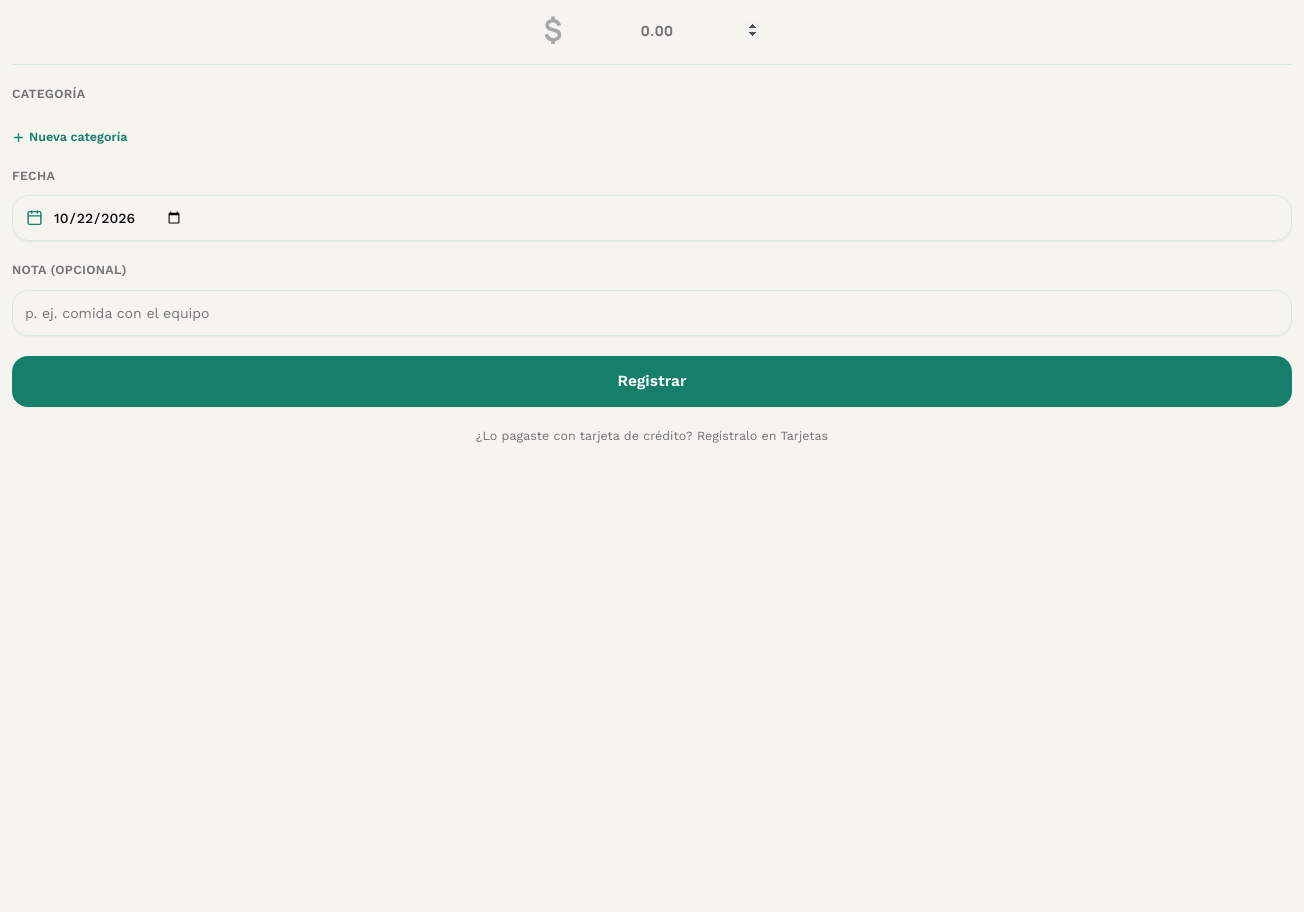
FormularioGasto — un gasto mayor al disponible pide confirmación › "Corregir el monto" quita el aviso y vuelve el botón normal, sin registrar
Step 1. Type "6000" into the number field named "¿Cuánto gastaste?" → (664, 30), box x1=568 y1=20 x2=760 y2=40
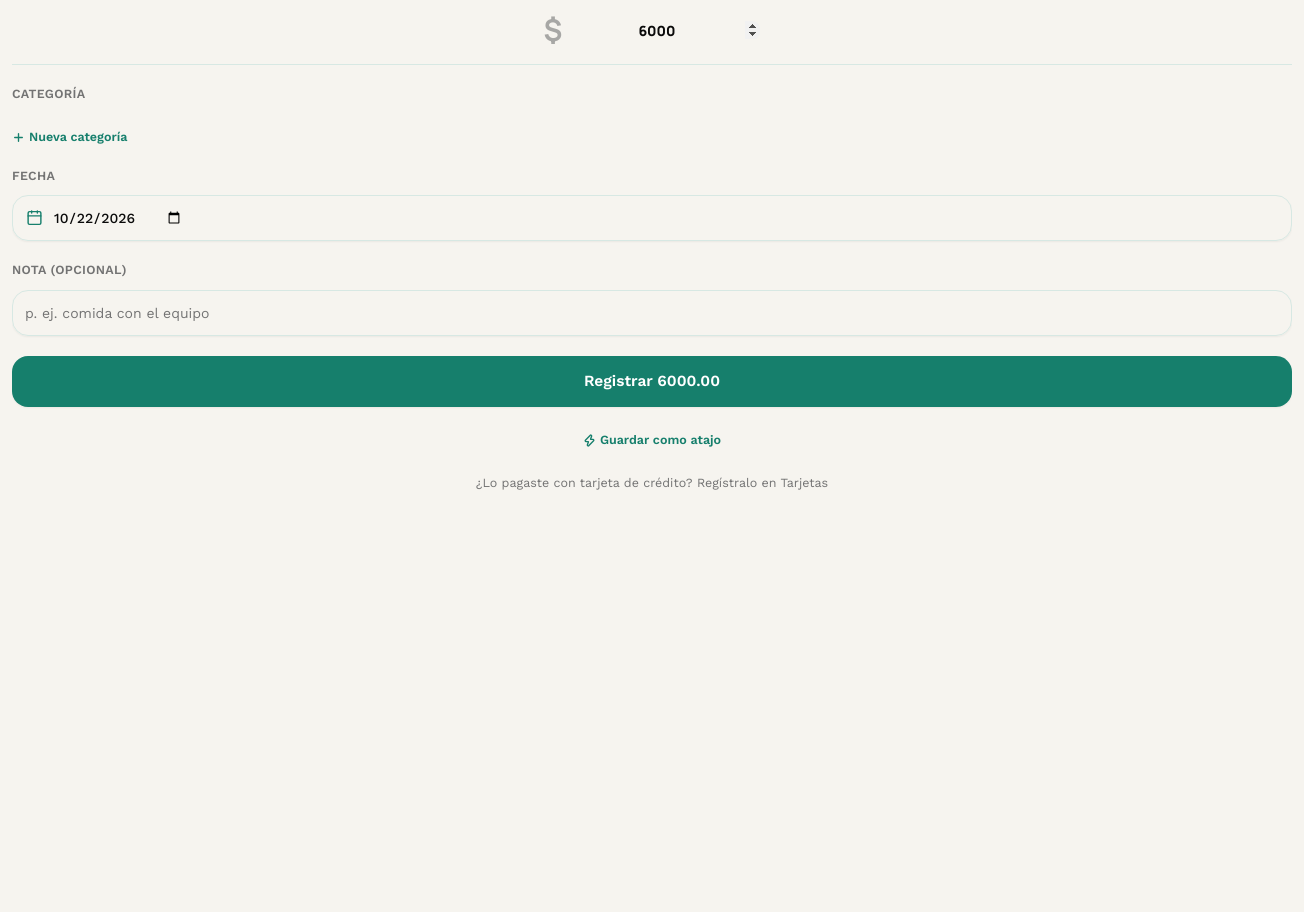
Step 2. Click the button "Registrar 6000.00" → (652, 382), box x1=12 y1=356 x2=1292 y2=407
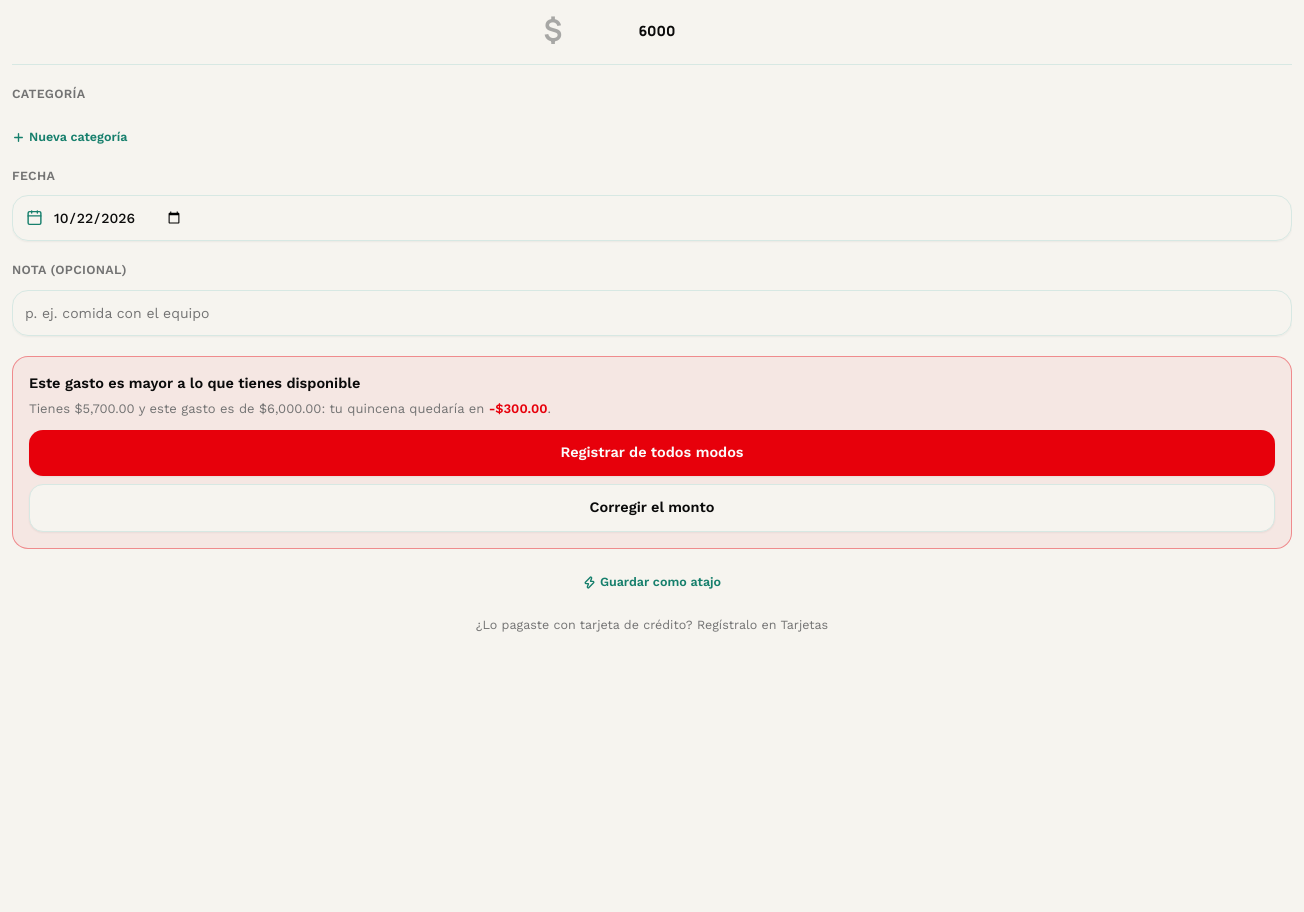
Step 3. Click the button "Corregir el monto" → (652, 508), box x1=29 y1=484 x2=1275 y2=532
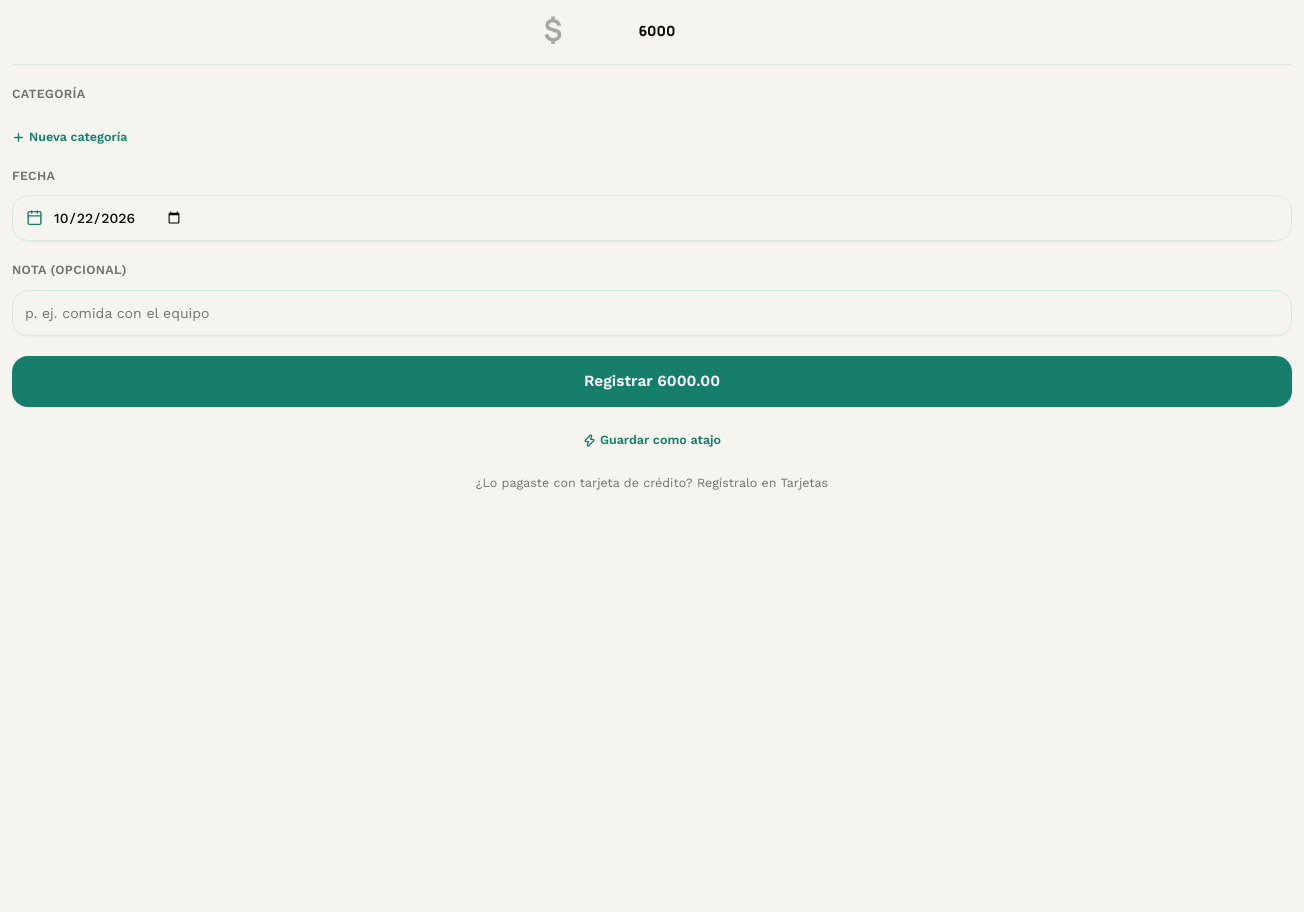
Result: the message "Este gasto es mayor a lo que tienes disponible Tienes $5,700.00 y este gasto es" is gone
Result: the button "Registrar 6000.00" is shown at x1=12 y1=356 x2=1292 y2=407
